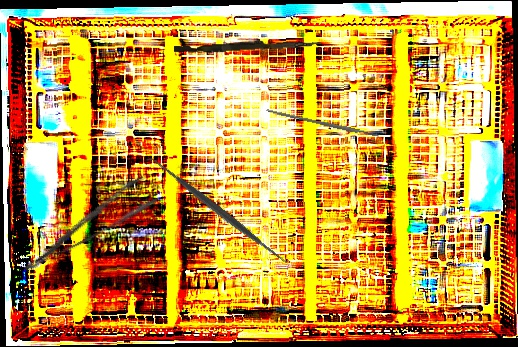Dressing Forceps: (10, 173, 161, 275)
Pusher: (173, 35, 322, 57)
Scalpel Handle: (265, 108, 380, 139)
Spatula Surgical: (142, 148, 293, 272)
